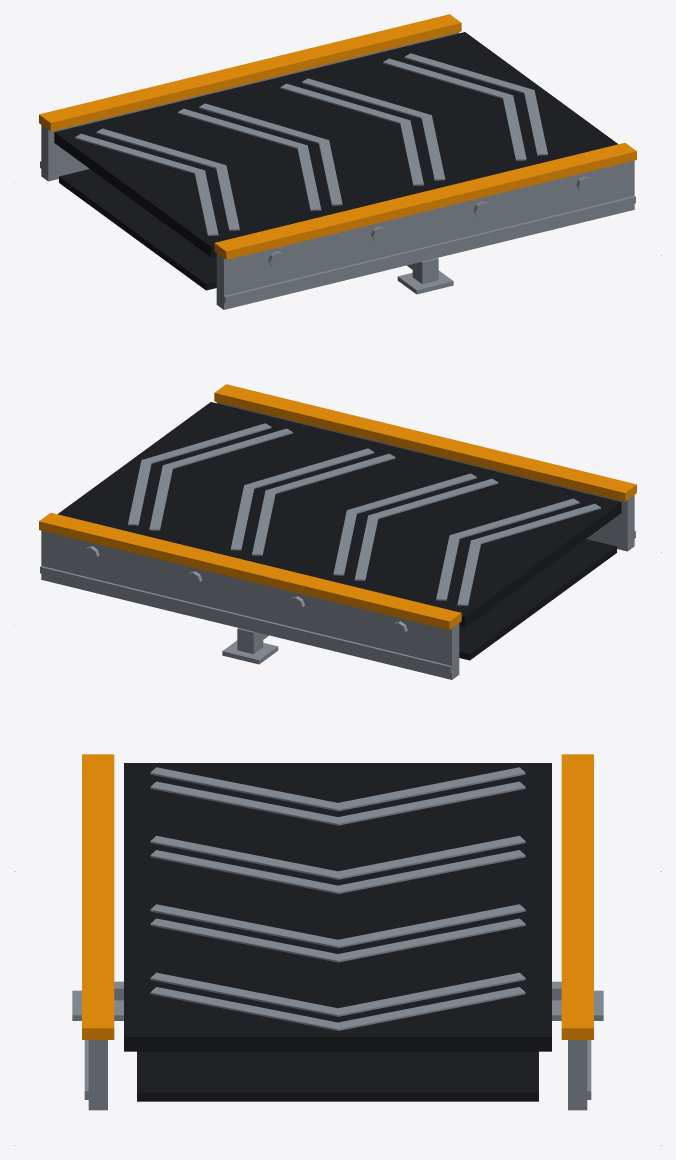
The model's file is convoyeur_t2.glb.
The picture shows the model from 3 angles, top to bottom: view 1: azimuth 30°, elevation 25°; view 2: azimuth 150°, elevation 25°; view 3: azimuth 270°, elevation 25°; orthographic projection. The views are drawn at different scales.
Visible parts, largest first — view 1: pieces_noir.030, pieces_acier.054, pieces_rive_t2.006, bande_acier.048; view 2: pieces_noir.030, pieces_acier.054, pieces_rive_t2.006, bande_acier.048; view 3: pieces_noir.030, bande_acier.048, pieces_rive_t2.006, pieces_acier.054.
Part boxes in pixels (x1,y1,x2,y2): pieces_noir.030: [54, 32, 617, 290]; pieces_acier.054: [40, 32, 635, 309]; pieces_rive_t2.006: [39, 14, 636, 259]; bande_acier.048: [75, 53, 547, 235]; pieces_noir.030: [58, 402, 621, 660]; pieces_acier.054: [40, 402, 635, 679]; pieces_rive_t2.006: [39, 384, 636, 629]; bande_acier.048: [128, 423, 600, 605]; pieces_noir.030: [124, 763, 551, 1101]; bande_acier.048: [150, 767, 525, 1030]; pieces_rive_t2.006: [82, 754, 593, 1039]; pieces_acier.054: [72, 981, 603, 1110].
Bounding box in the file's own units: 1 × 0.2 × 1.
